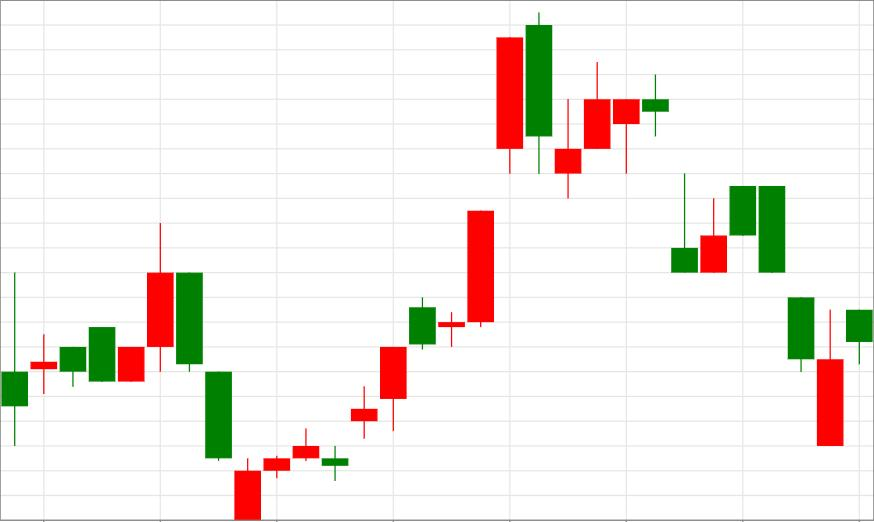bearish_engulfing_fall: (322, 12, 552, 481)
